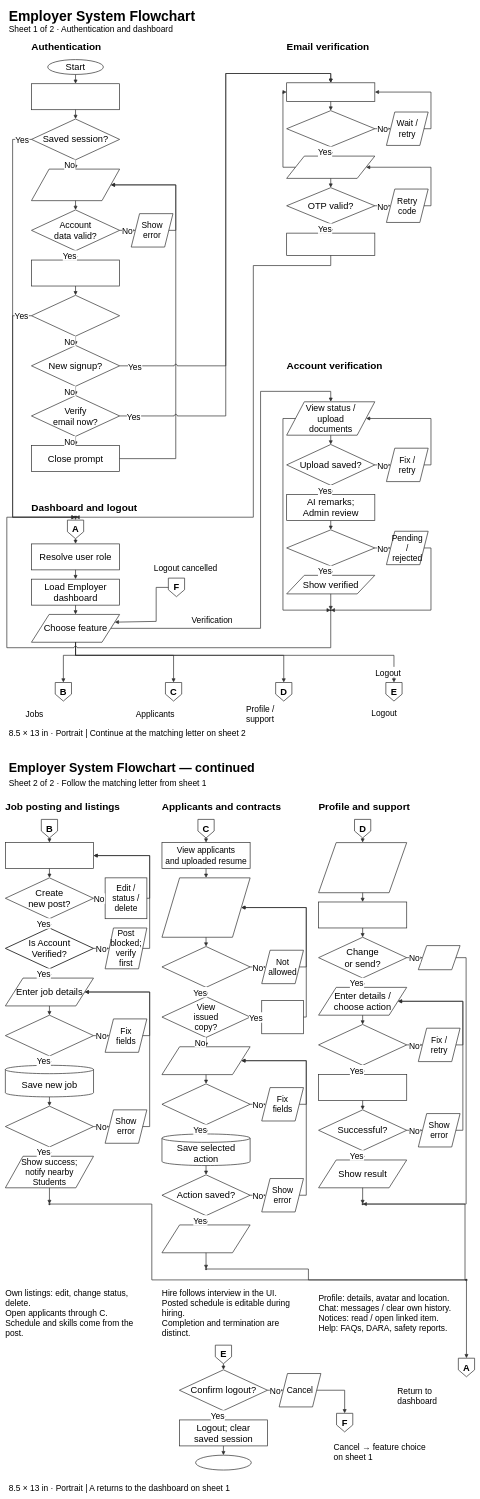
This 480x1499 diagram has some shape labels left out. Here are the shapes that lost their labels. From the top down, the centre of each, then its label:
At pixel 75 96: "Open app".
At pixel 330 92: "Send / resend OTP".
At pixel 330 128: "Code sent?".
At pixel 75 185: "Login / Sign up Google login".
At pixel 330 167: "Enter OTP".
At pixel 330 244: "Mark email verified".
At pixel 75 273: "Create or restore account session".
At pixel 75 315: "Email verified?".
At pixel 330 547: "Approved?".
At pixel 49 855: "Browse own listings".
At pixel 362 867: "Profile / Files Chat / Notices Reports / Help Contact / Maps".
At pixel 205 907: "Interview / Hire Reject / Delete Complete / Terminate Certificate / Review".
At pixel 362 914: "Open selected tool".
At pixel 205 967: "Action available?".
At pixel 439 957: "View only".
At pixel 49 1035: "Posting valid?".
At pixel 282 1017: "Preview / Save PDF".
At pixel 205 1060: "Enter details; confirm action".
At pixel 362 1045: "Valid and allowed?".
At pixel 205 1104: "Details valid?".
At pixel 362 1087: "Save / send / request response".
At pixel 49 1126: "Post saved?".
At pixel 205 1238: "Show result; notify Student".
At pixel 223 1462: "End".
